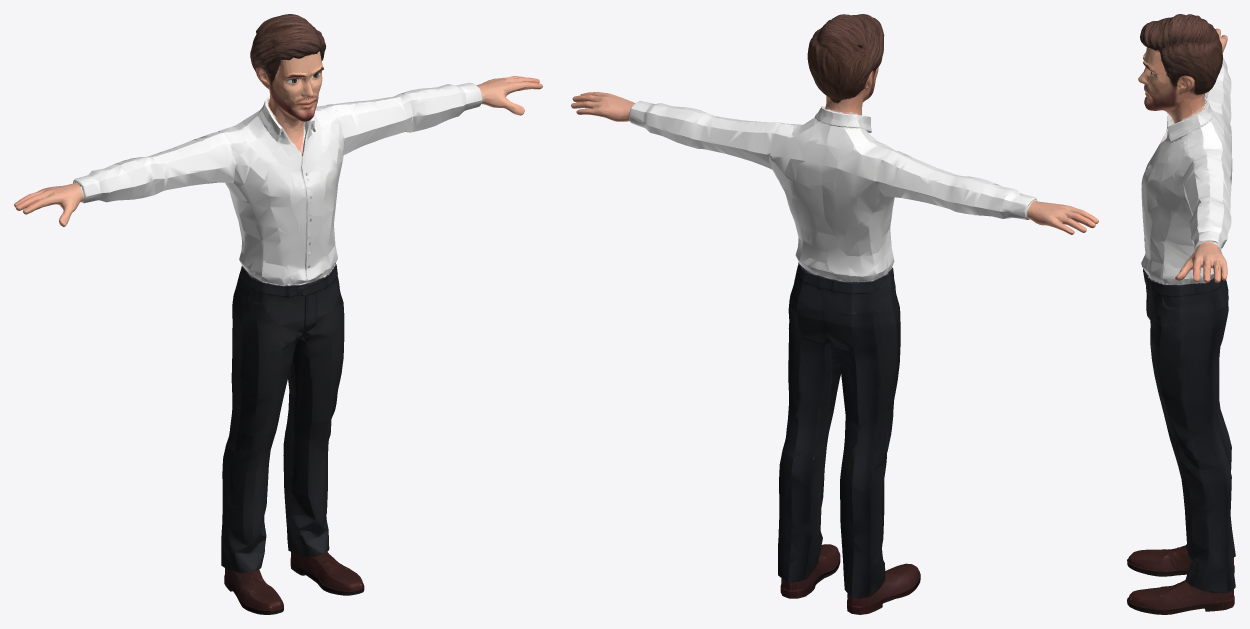
File: ogc-person.glb
3 renders of one model, left to right at view 1: azimuth 30°, elevation 25°; view 2: azimuth 150°, elevation 25°; view 3: azimuth 270°, elevation 25°, orthographic.
Size of the model in its own units: 1.83 by 1.9 by 0.3289.
1 material, 1 textured.
